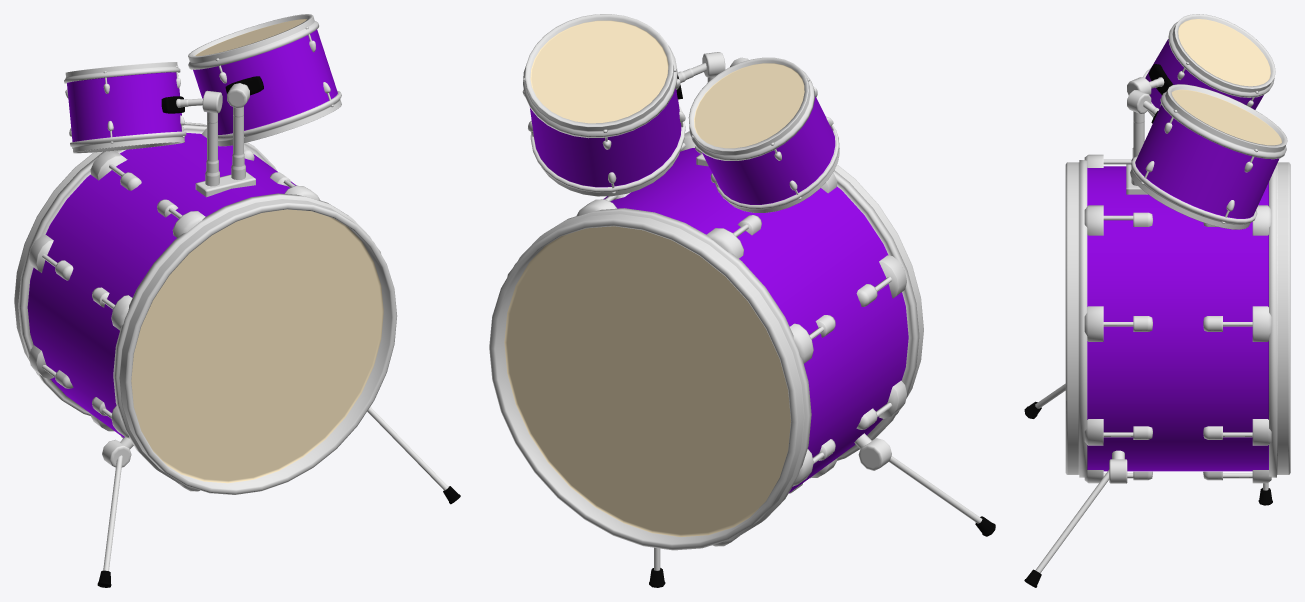
The model's file is BigDrum.fbx.
3 renders of one model, left to right at view 1: azimuth 30°, elevation 25°; view 2: azimuth 150°, elevation 25°; view 3: azimuth 270°, elevation 25°, orthographic. The views are drawn at different scales.
Visible parts, largest first — view 1: BassDrum_LOD0; view 2: BassDrum_LOD0; view 3: BassDrum_LOD0.
Boxes of the visible parts, x1,y1,x2,y2 form: BassDrum_LOD0: (14,14,460,587); BassDrum_LOD0: (489,14,995,587); BassDrum_LOD0: (1024,14,1290,587).
Size of the model in its own units: 574 by 676 by 366.
